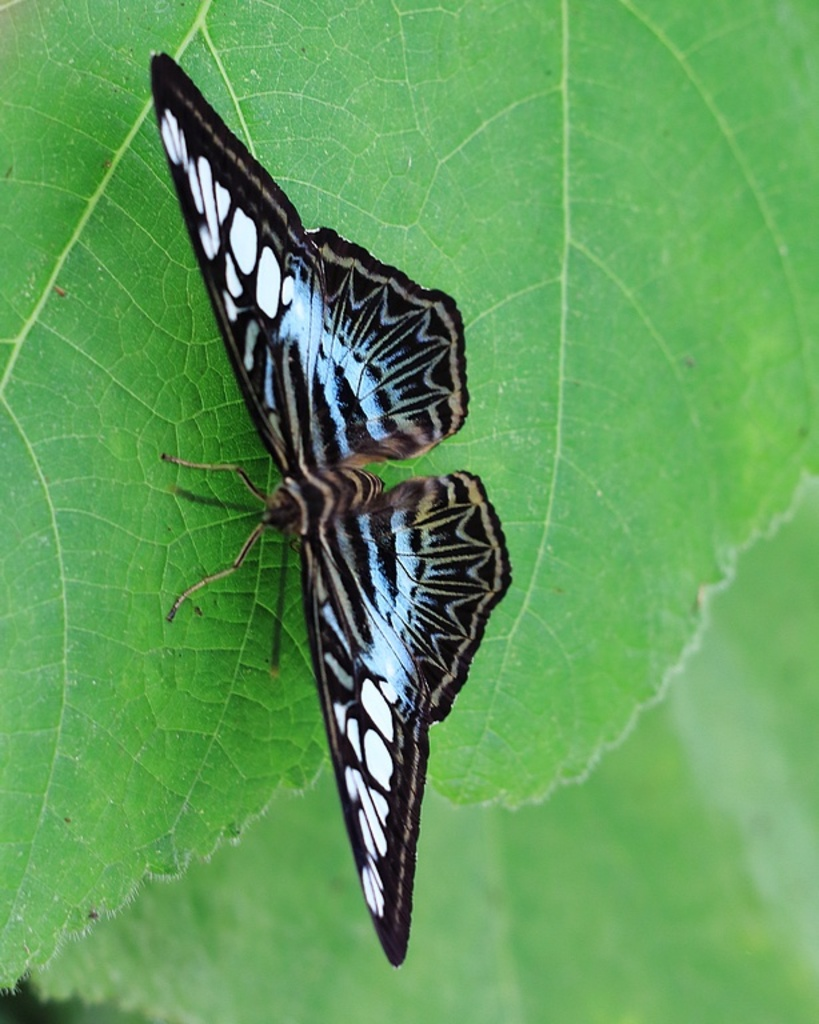Butterfly: (147, 38, 537, 987)
